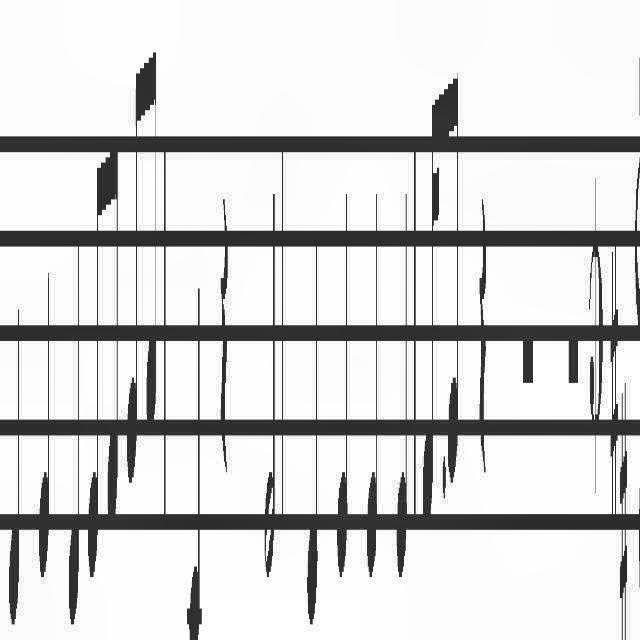Bass-clef: (634, 0, 640, 640)
Diez: (609, 252, 619, 540), (619, 399, 628, 640)
Eighth-note: (126, 55, 142, 499), (86, 164, 102, 584), (107, 116, 121, 536), (145, 59, 159, 447), (448, 47, 460, 491)
Half-note: (264, 180, 276, 592)
Quarter-note: (304, 224, 320, 636), (394, 192, 410, 596), (335, 188, 349, 588), (366, 172, 379, 588), (69, 247, 82, 640), (188, 278, 202, 640), (38, 248, 51, 596), (10, 304, 22, 640)
Quarter-rest: (218, 181, 230, 504), (477, 192, 488, 480)
Sixteenth-note: (421, 68, 439, 532)
